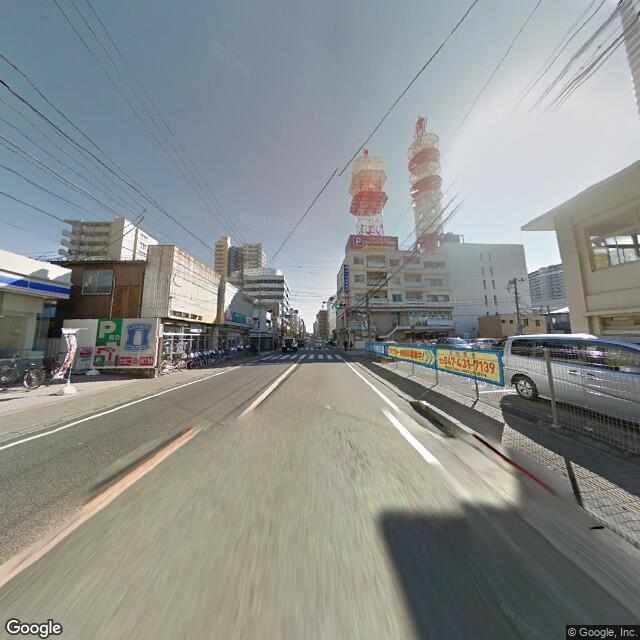lawson: (124, 317, 152, 356)
